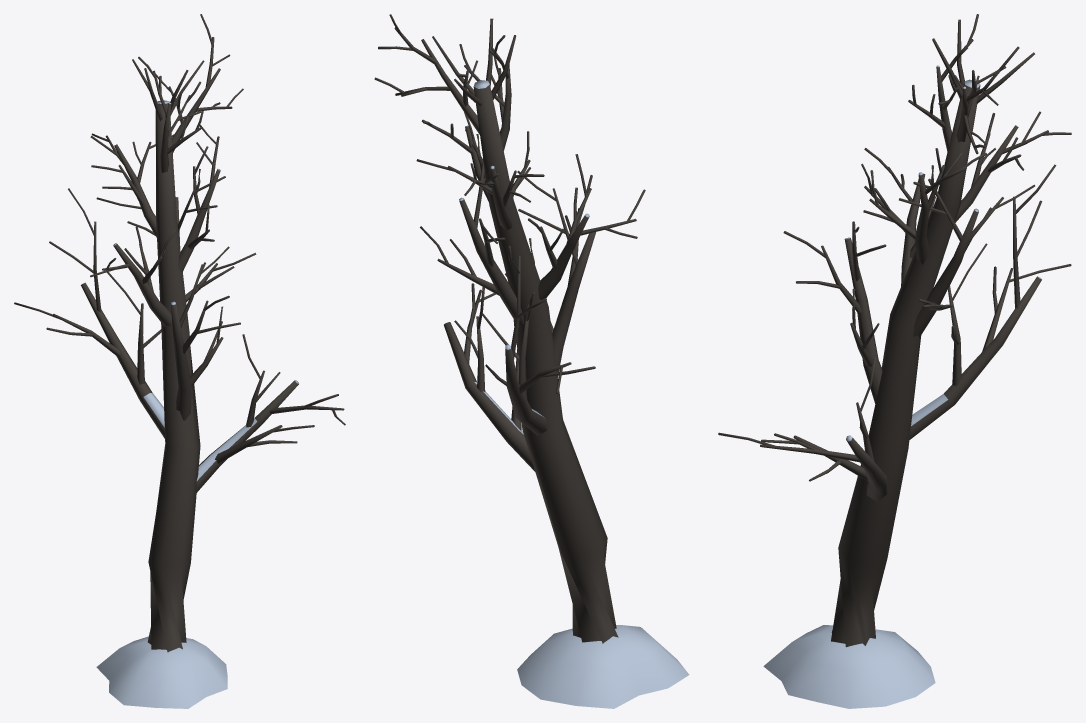
The model's file is bare_tree_hd.glb.
3 renders of one model, left to right at view 1: azimuth 30°, elevation 25°; view 2: azimuth 150°, elevation 25°; view 3: azimuth 270°, elevation 25°, orthographic. The views are drawn at different scales.
Parts seen in each view (by area): view 1: Tree; view 2: Tree; view 3: Tree.
Boxes of the visible parts, x1,y1,x2,y2 form: Tree: (14, 14, 345, 708); Tree: (374, 14, 689, 708); Tree: (718, 14, 1071, 708).
Bounding box in the file's own units: 2.43 × 6.79 × 3.15.
